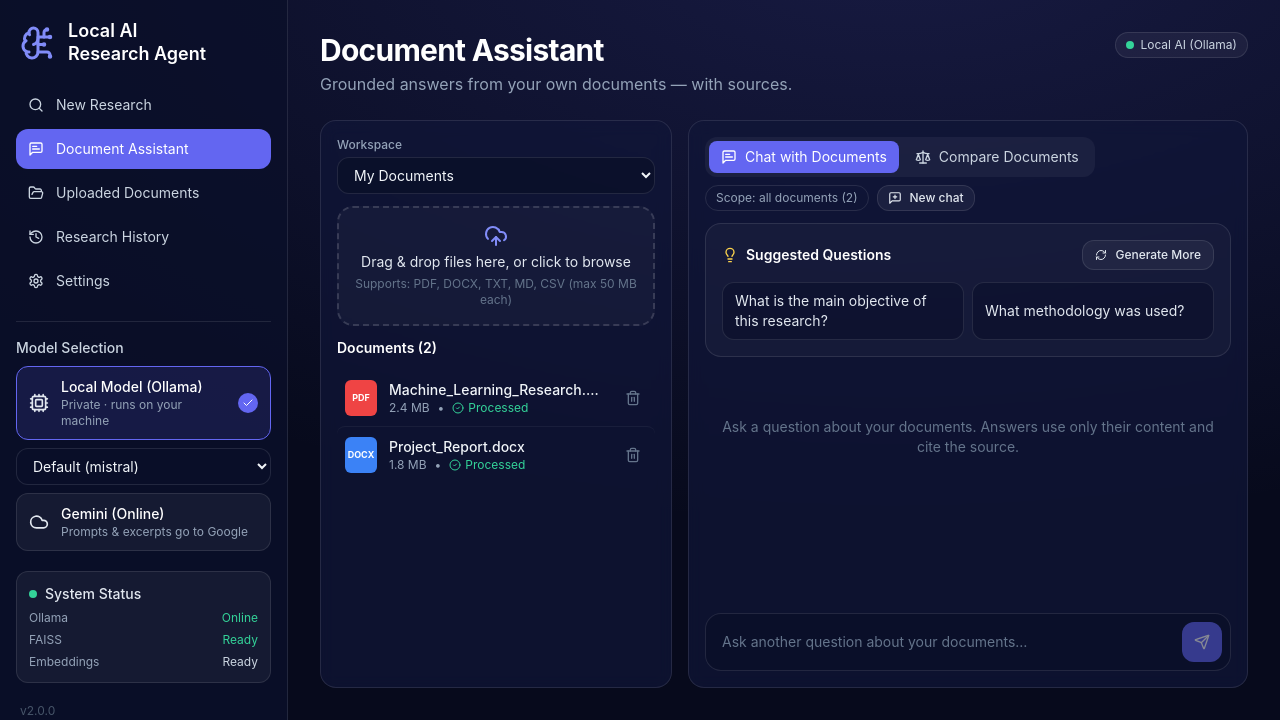
Test case: Document Assistant › compare tab needs two selected documents and renders a cited comparison
Click the tab "Compare Documents" at [997, 157], box [903,141,1091,173]
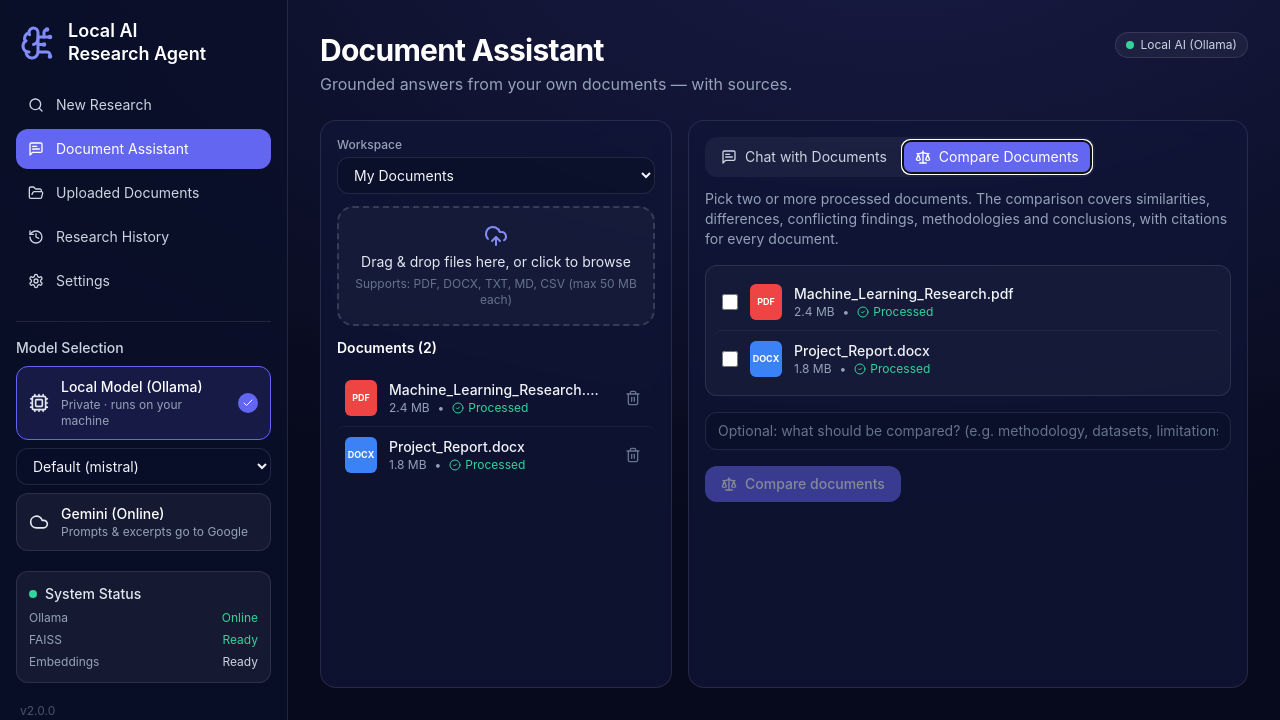
Expected: the button "Compare documents" is disabled, [705,466,901,502]
Click the checkbox named "Select Machine_Learning_Research.pdf" at [730, 302], box [722,294,738,310]
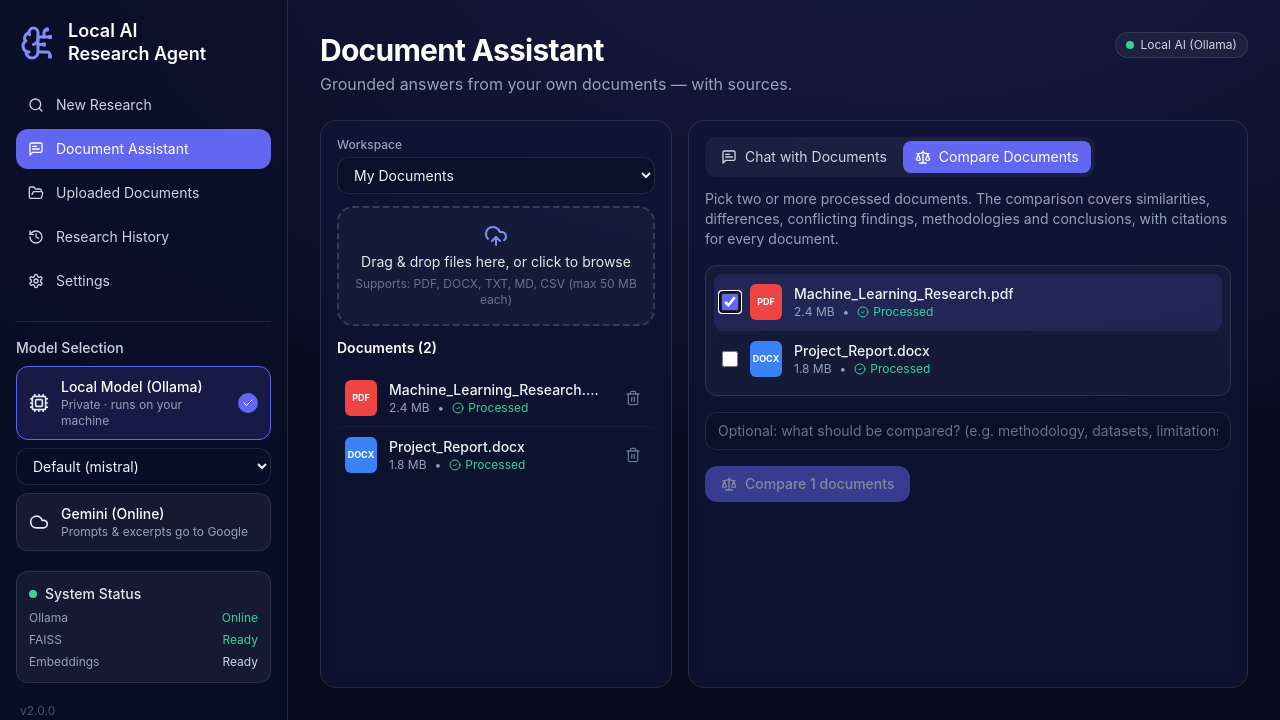
Click the checkbox named "Select Project_Report.docx" at [730, 359], box [722,351,738,367]
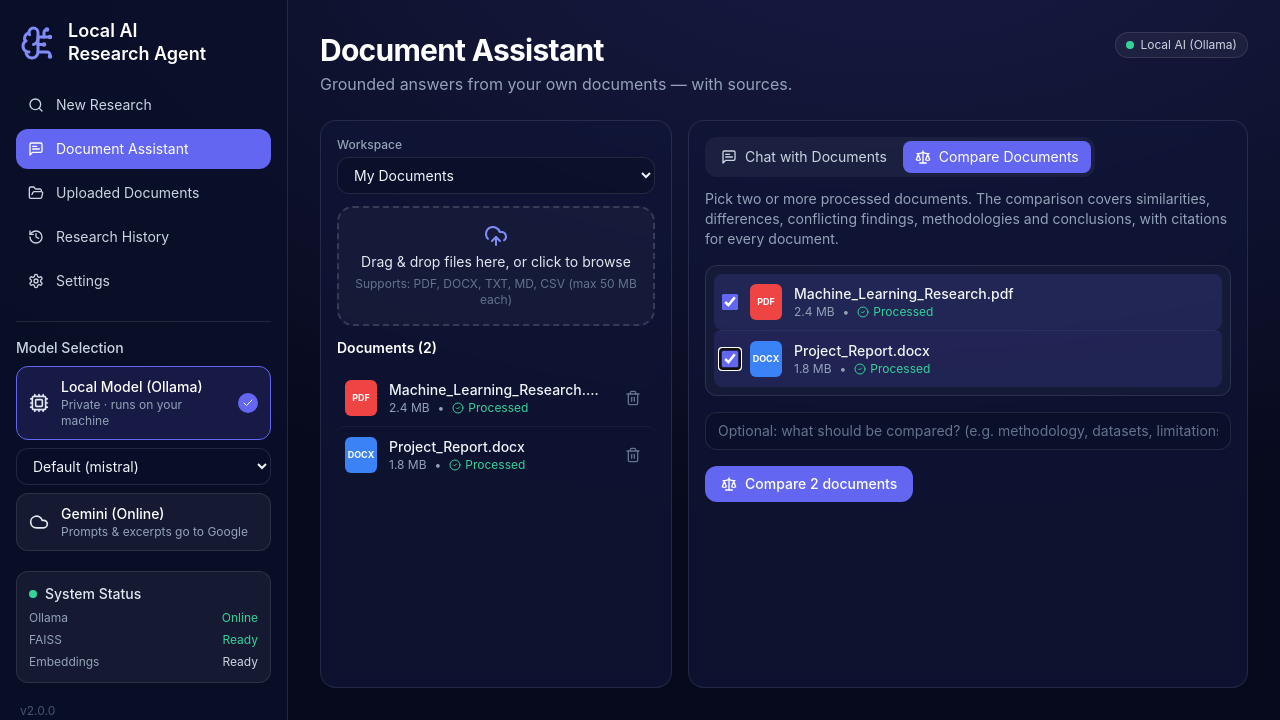
Click the button "Compare 2 documents" at [809, 484], box [705,466,913,502]
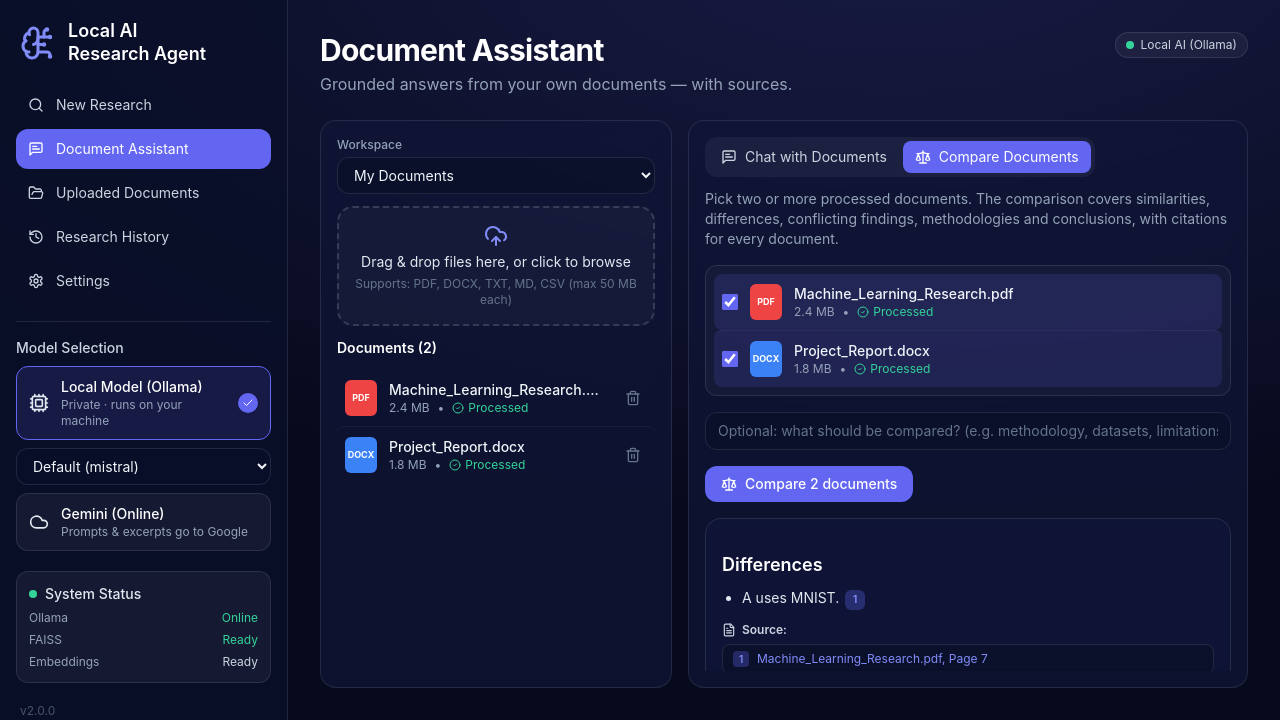
Now the heading "Differences" is shown, box [722,554,823,575]
